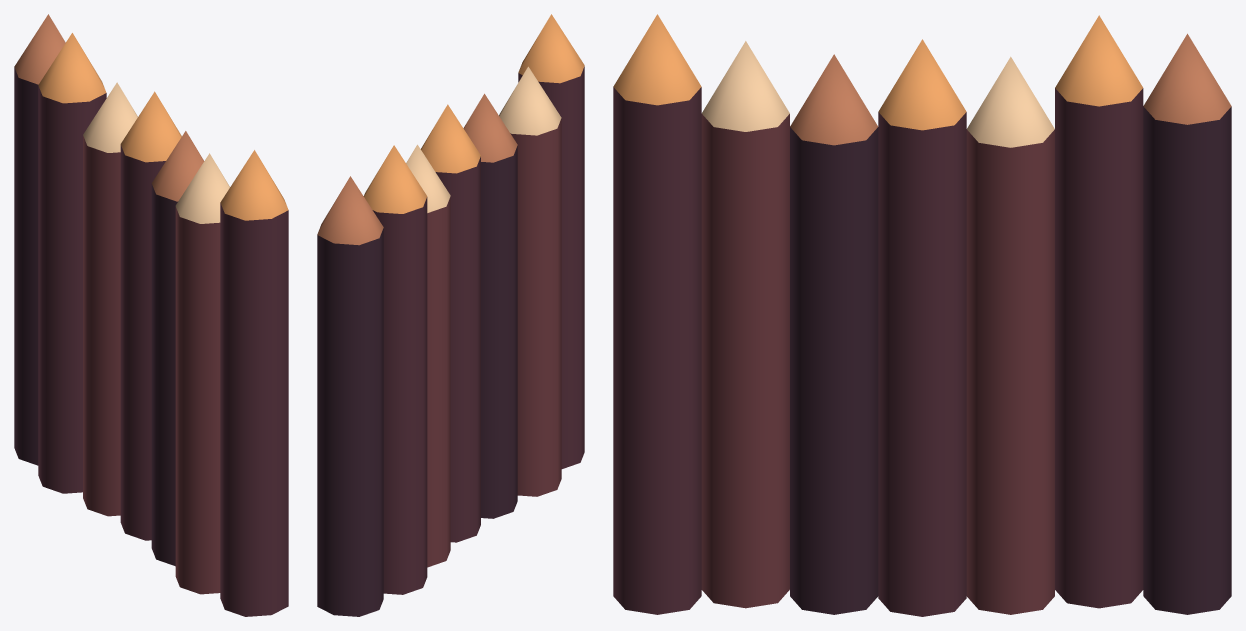
Rendered from WoodenWall.fbx.
3 views of the same model, side by side, from view 1: azimuth 30°, elevation 25°; view 2: azimuth 150°, elevation 25°; view 3: azimuth 270°, elevation 25° (orthographic). The views are drawn at different scales.
Parts seen in each view (by area): view 1: WoodenPalisade; view 2: WoodenPalisade; view 3: WoodenPalisade.
Part boxes in pixels (left/top/right/bottom): WoodenPalisade: left=14, top=14, right=288, bottom=616; WoodenPalisade: left=317, top=14, right=584, bottom=616; WoodenPalisade: left=613, top=14, right=1231, bottom=616.
Bounding box in the file's own units: 33.9 × 200 × 193.
